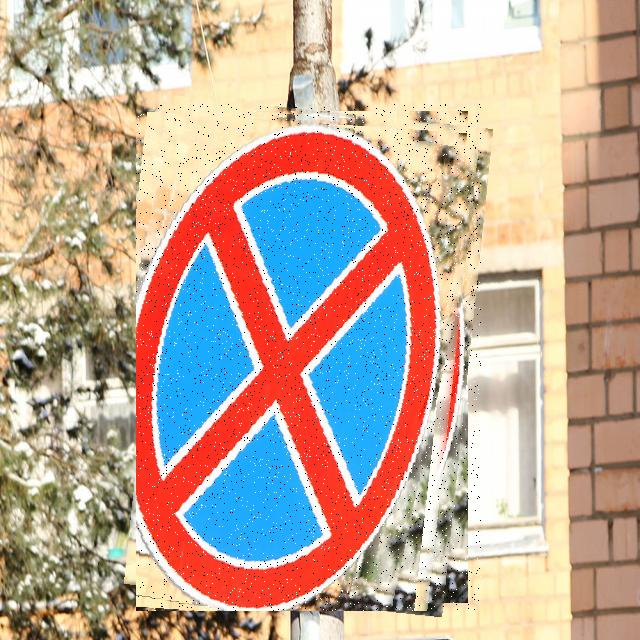no stopping: (136, 104, 481, 611)
